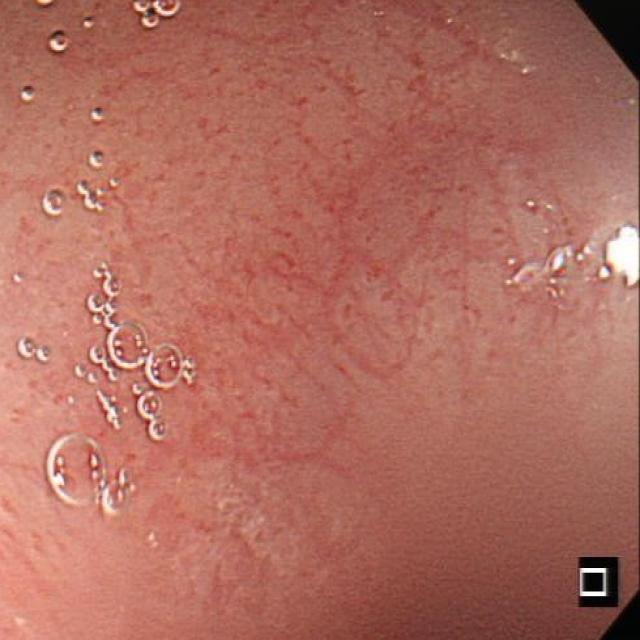S: (578, 555, 619, 608)
T: (10, 261, 200, 517), (39, 106, 124, 220), (503, 234, 594, 308), (35, 2, 102, 59), (130, 3, 188, 32), (17, 81, 42, 109)
U: (597, 225, 640, 289)
